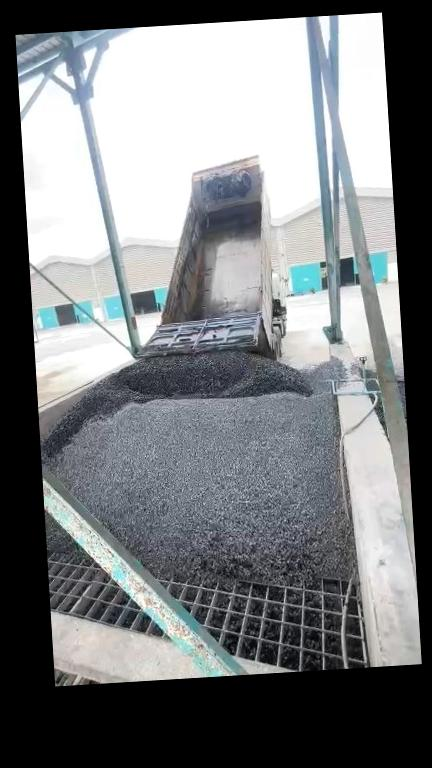gravel: (41, 352, 354, 583), (45, 510, 82, 556), (191, 252, 206, 319)
sand: (37, 375, 59, 406)
